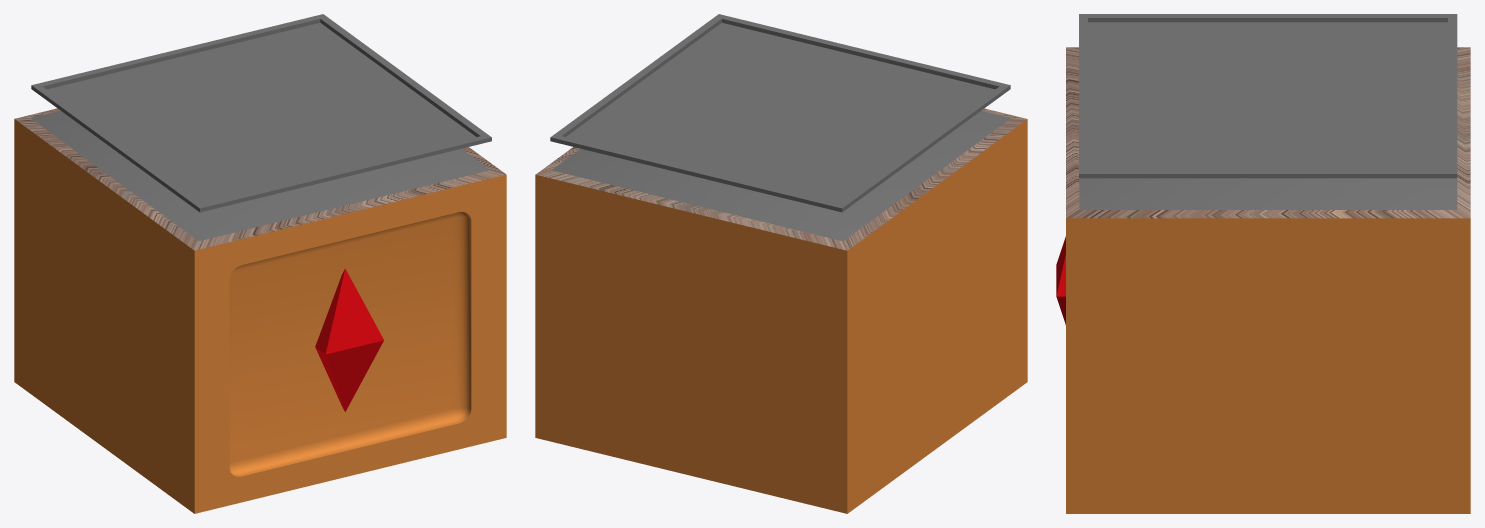
The model's file is 置くやつ.fbx.
3 renders of one model, left to right at view 1: azimuth 30°, elevation 25°; view 2: azimuth 150°, elevation 25°; view 3: azimuth 270°, elevation 25°, orthographic. The views are drawn at different scales.
Visible parts, largest first — view 1: Cube, 立方体; view 2: Cube; view 3: Cube, 立方体.
Boxes of the visible parts, left/top/right/bottom form: Cube: left=14, top=14, right=506, bottom=513; 立方体: left=315, top=268, right=383, bottom=411; Cube: left=535, top=14, right=1027, bottom=513; Cube: left=1066, top=14, right=1470, bottom=513; 立方体: left=1056, top=236, right=1065, bottom=324.
Size of the model in its own units: 453 by 414 by 464.
